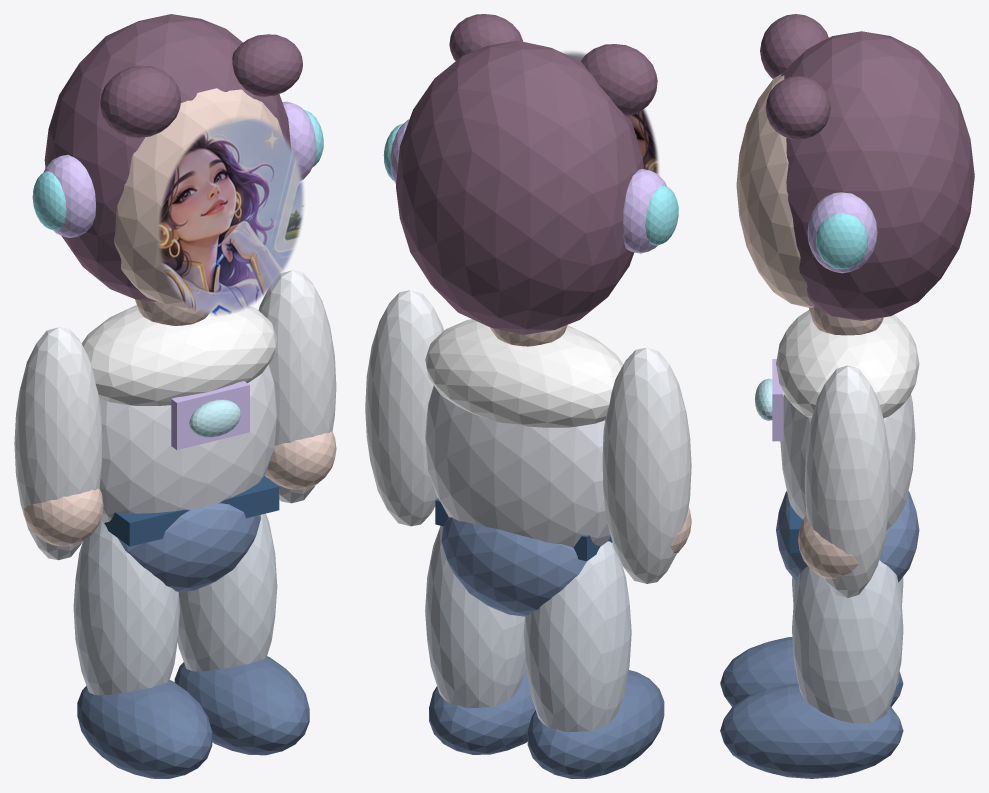
The model's file is luna_prototype_3d.glb.
3 renders of one model, left to right at view 1: azimuth 30°, elevation 25°; view 2: azimuth 150°, elevation 25°; view 3: azimuth 270°, elevation 25°, orthographic. The views are drawn at different scales.
Parts seen in each view (by area): view 1: Luna_FaceImage, Luna_Hair, Luna_Torso, Luna_JacketYoke, Luna_LegL, Luna_ArmL, Luna_HeadFace, Luna_ArmR, Luna_BootL, Luna_LegR, Luna_BootR, Luna_Hip (+11 smaller); view 2: Luna_Hair, Luna_Torso, Luna_ArmL, Luna_JacketYoke, Luna_LegL, Luna_ArmR, Luna_LegR, Luna_Hip, Luna_BootL, Luna_BootR, Luna_HairFringeL, Luna_HeadsetL (+5 smaller); view 3: Luna_Hair, Luna_ArmR, Luna_LegR, Luna_BootR, Luna_JacketYoke, Luna_HeadFace, Luna_Torso, Luna_BootL, Luna_HairFringeR, Luna_Hip, Luna_HairFringeL, Luna_HeadsetGlowR (+5 smaller).
Boxes of the visible parts, x1,y1,x2,y2 form: Luna_FaceImage: (158,116,304,315); Luna_Hair: (44,14,290,301); Luna_Torso: (99,364,276,522); Luna_JacketYoke: (81,305,276,405); Luna_LegL: (73,521,179,695); Luna_ArmL: (14,327,102,560); Luna_HeadFace: (114,88,284,308); Luna_ArmR: (258,270,336,503); Luna_BootL: (77,680,212,778); Luna_LegR: (177,513,277,671); Luna_BootR: (174,656,309,755); Luna_Hip: (118,503,260,592); Luna_Hair: (396,40,644,334); Luna_Torso: (425,385,610,547); Luna_ArmL: (602,348,691,583); Luna_JacketYoke: (425,319,623,427); Luna_LegL: (524,541,631,731); Luna_ArmR: (365,290,443,526); Luna_LegR: (425,525,525,707); Luna_Hip: (441,517,586,616); Luna_BootL: (527,670,664,778); Luna_BootR: (429,667,535,754); Luna_HairFringeL: (581,44,657,116); Luna_HeadsetL: (622,169,666,253); Luna_Hair: (781,31,974,320); Luna_ArmR: (804,365,890,598); Luna_LegR: (792,560,903,723); Luna_BootR: (720,683,903,778); Luna_JacketYoke: (776,310,919,418); Luna_HeadFace: (736,74,814,308); Luna_Torso: (780,394,915,530); Luna_BootL: (720,637,903,706); Luna_HairFringeR: (765,76,830,139); Luna_Hip: (776,491,919,582); Luna_HairFringeL: (760,14,828,78); Luna_HeadsetGlowR: (816,213,868,269).
Size of the model in its own units: 0.894 by 1.96 by 0.639.
24 materials, 1 textured.
